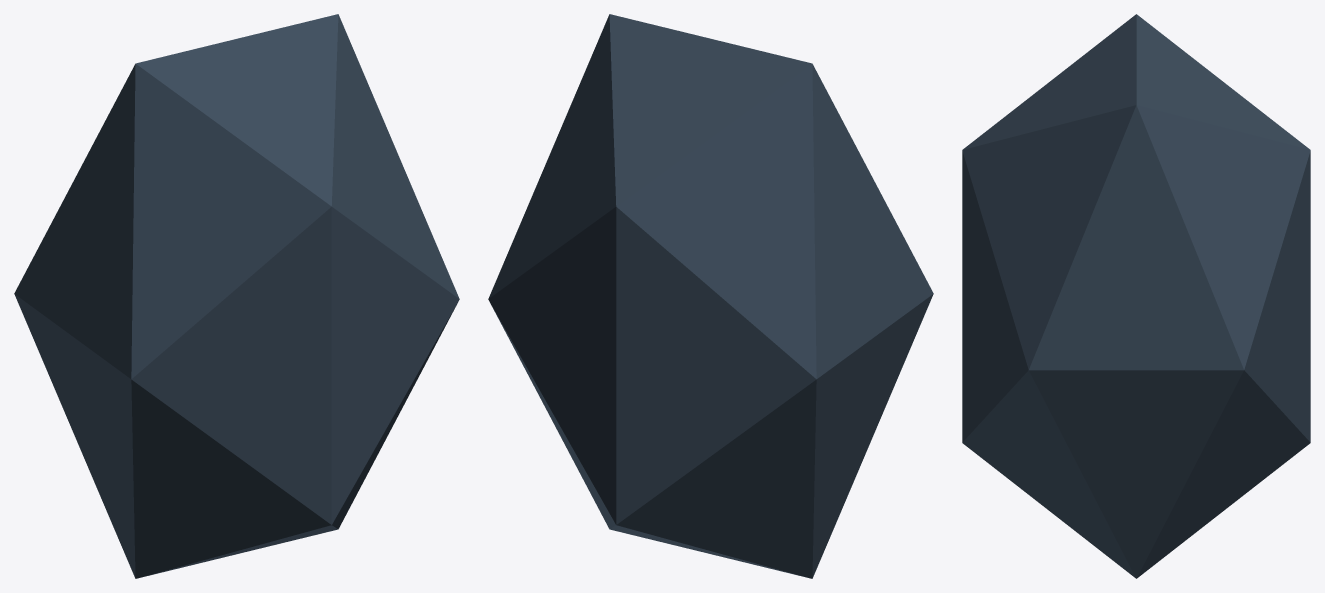
Rendered from gem.glb.
The picture shows the model from 3 angles, left to right: view 1: azimuth 30°, elevation 25°; view 2: azimuth 150°, elevation 25°; view 3: azimuth 270°, elevation 25°; orthographic projection. The views are drawn at different scales.
Visible parts, largest first — view 1: gem; view 2: gem; view 3: gem.
Part boxes in pixels (x1,y1,x2,y2): gem: [14, 14, 459, 578]; gem: [488, 14, 933, 578]; gem: [962, 14, 1310, 578].
Bounding box in the file's own units: 0.1633 × 0.245 × 0.1633.
